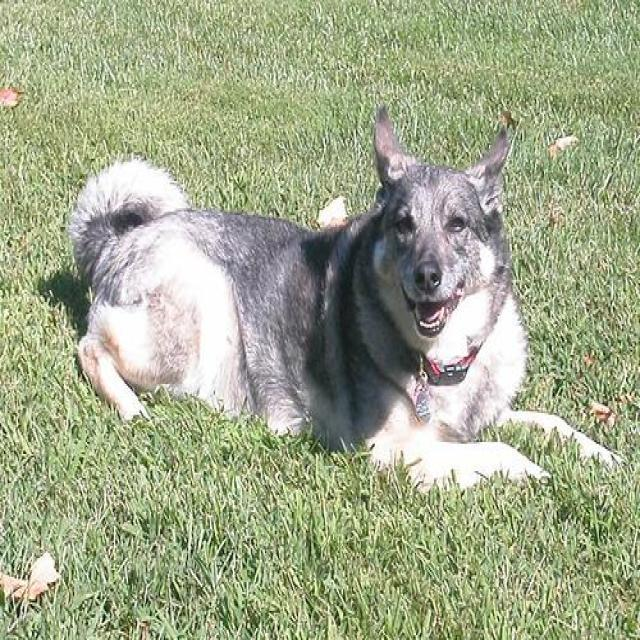adult_dog: (67, 106, 623, 491)
